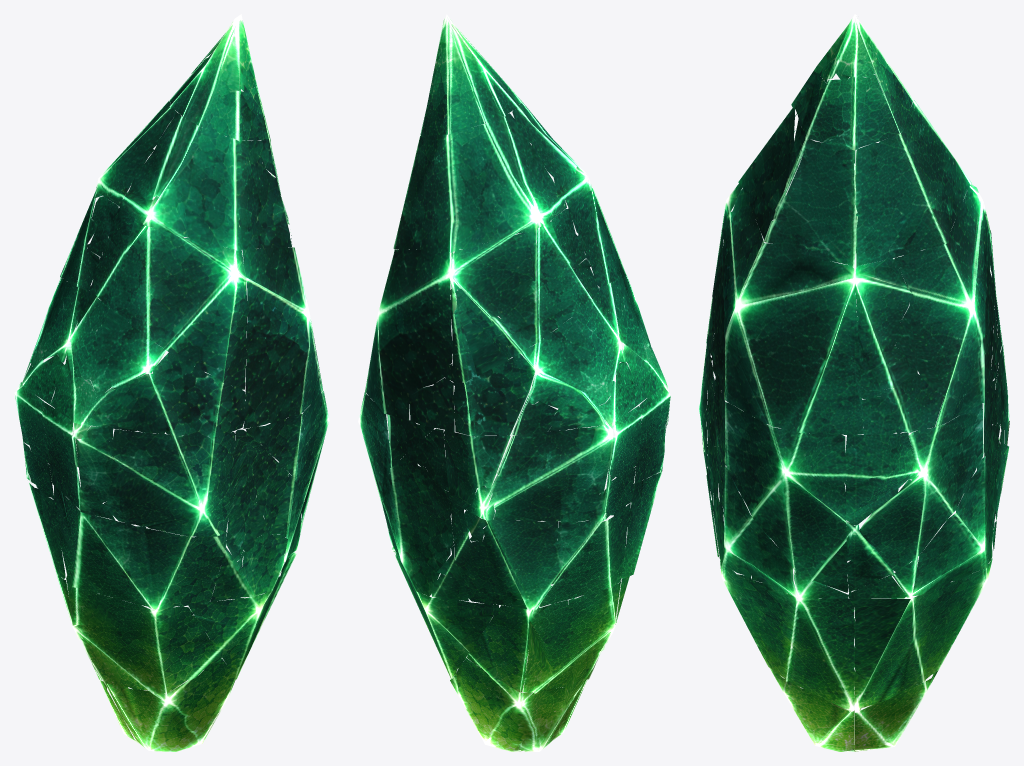
File: green_low_poly_gem.glb
3 renders of one model, left to right at view 1: azimuth 30°, elevation 25°; view 2: azimuth 150°, elevation 25°; view 3: azimuth 270°, elevation 25°, orthographic. The views are drawn at different scales.
Visible parts, largest first — view 1: low_poly_poly; view 2: low_poly_poly; view 3: low_poly_poly.
Boxes of the visible parts, x1=… form: low_poly_poly: x1=14, y1=14, x2=329, y2=751; low_poly_poly: x1=358, y1=14, x2=670, y2=751; low_poly_poly: x1=699, y1=14, x2=1009, y2=751.
Bounding box in the file's own units: 0.3755 × 0.983 × 0.3611.
Materials: 1 (1 with a texture image).
